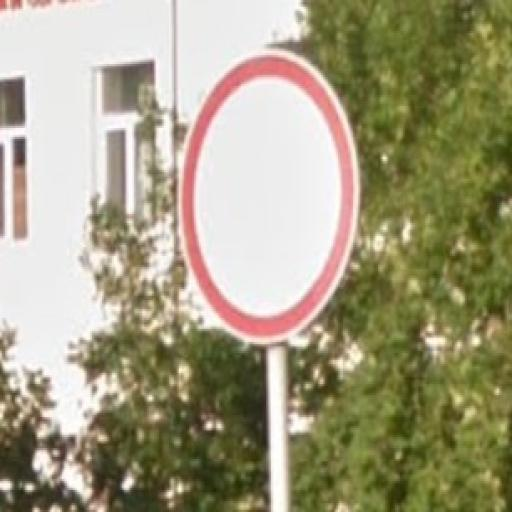traffic_sign: (178, 50, 361, 348)
